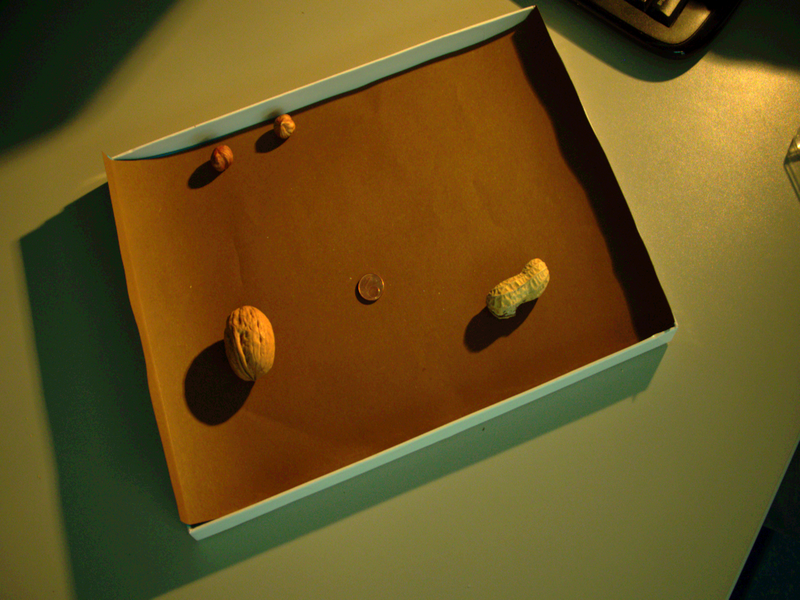walnut: (218, 301, 284, 390)
